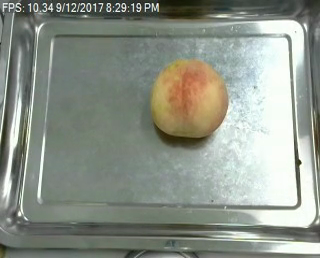Peach: (150, 59, 228, 137)
